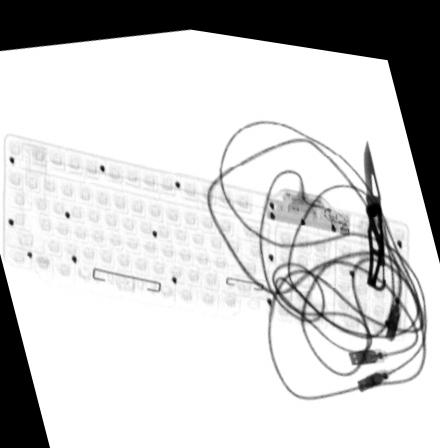Knife: (363, 126, 387, 280)
